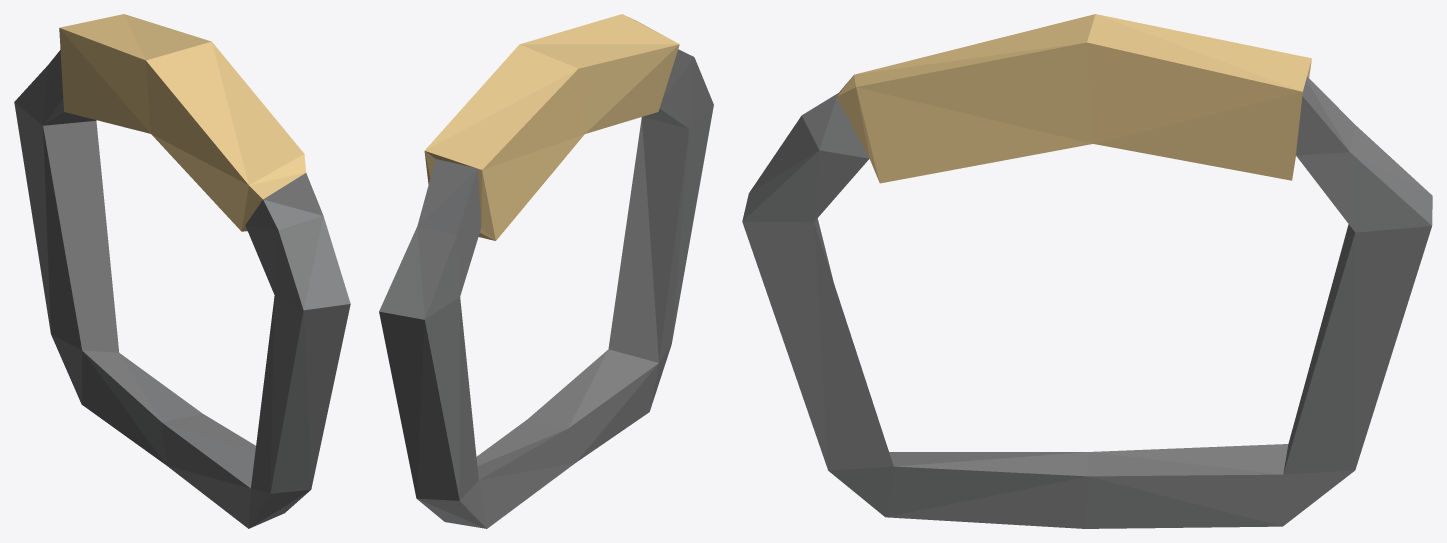
Rendered from SFV_Hand_Lamp_Hanger.fbx.
3 renders of one model, left to right at view 1: azimuth 30°, elevation 25°; view 2: azimuth 150°, elevation 25°; view 3: azimuth 270°, elevation 25°, orthographic. The views are drawn at different scales.
Visible parts, largest first — view 1: SFV_Hand_Lamp_Hanger; view 2: SFV_Hand_Lamp_Hanger; view 3: SFV_Hand_Lamp_Hanger.
Part boxes in pixels (x1=…): SFV_Hand_Lamp_Hanger: x1=14, y1=14, x2=350, y2=528; SFV_Hand_Lamp_Hanger: x1=379, y1=14, x2=713, y2=528; SFV_Hand_Lamp_Hanger: x1=742, y1=14, x2=1432, y2=528.
Bounding box in the file's own units: 1.86 × 11.13 × 14.15.
